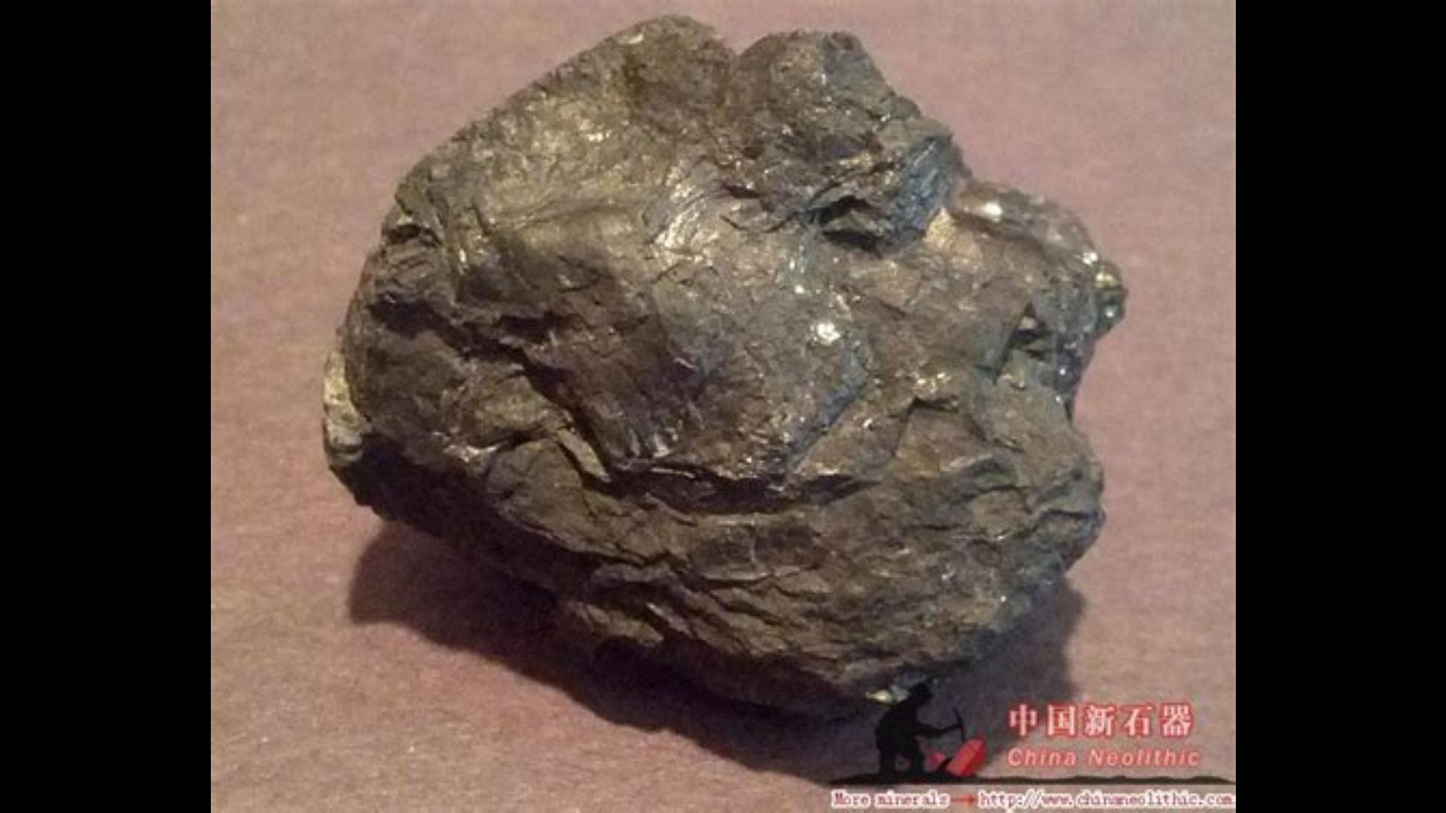rock: (327, 19, 1119, 774)
